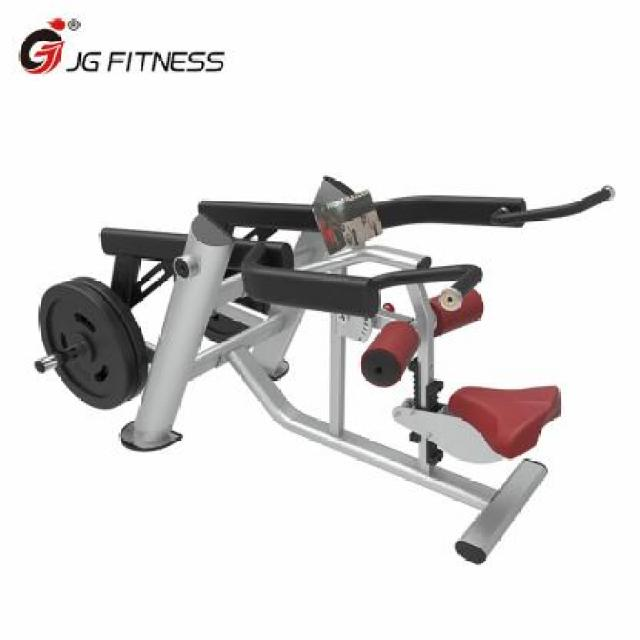seated dip machine: (32, 172, 617, 565)
